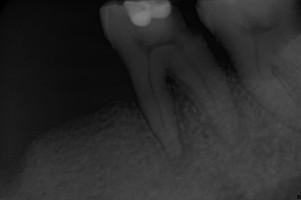Endo-Periodontal Lesion: (166, 74, 196, 120)
